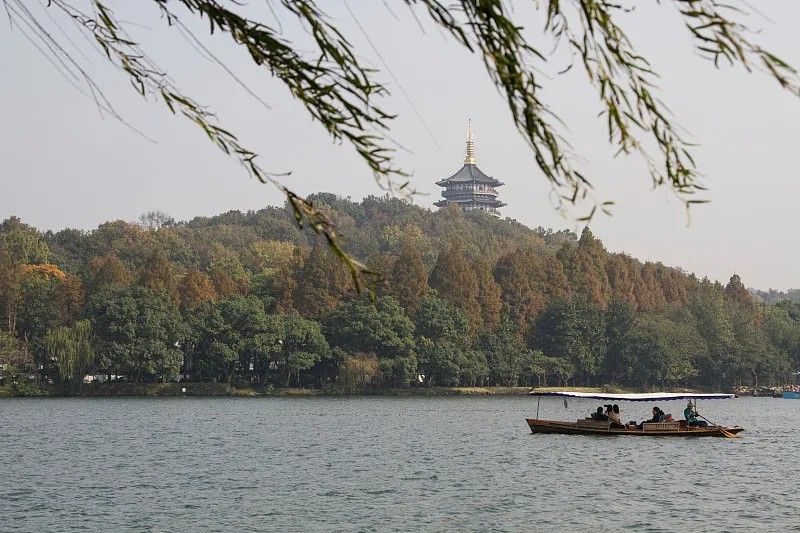Leifeng: (430, 115, 507, 219)
